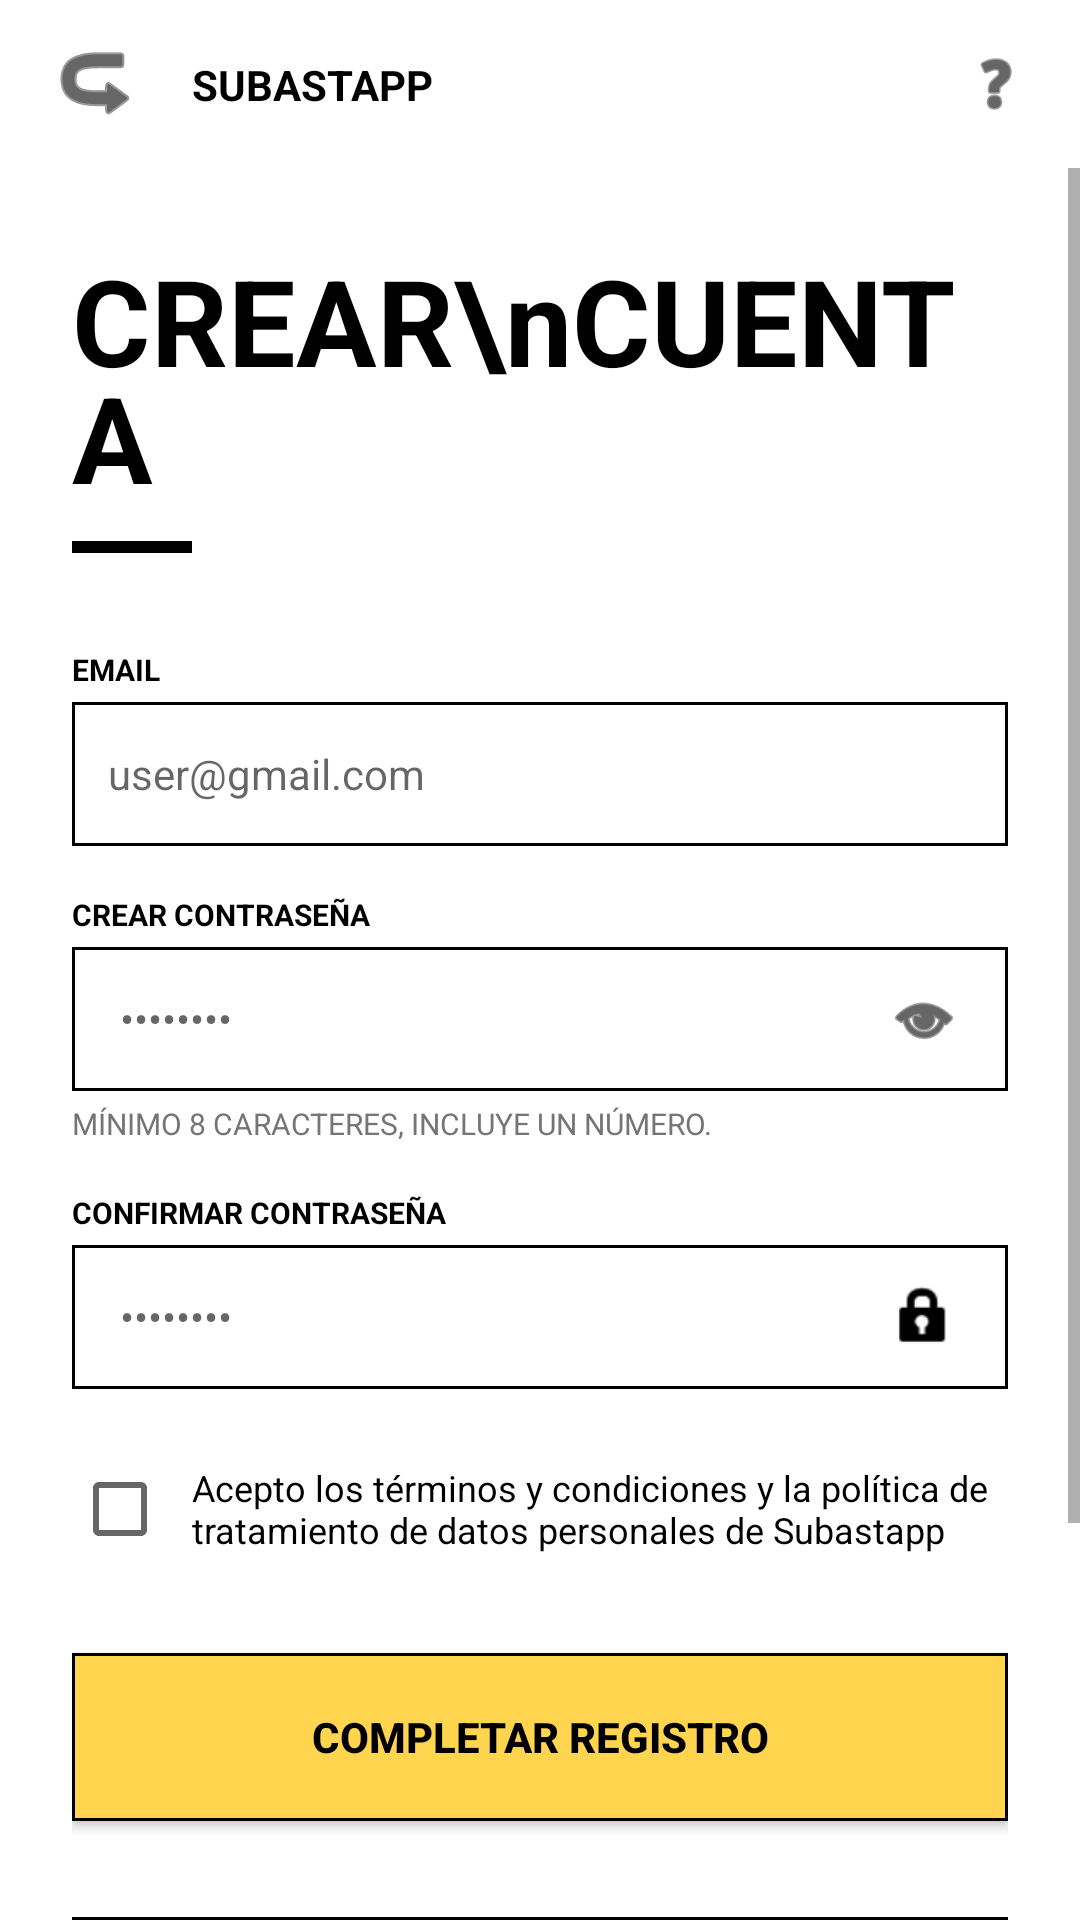

Locate icon controls on the screen. Image size 1080×1920, boxes as rect(x1, y1, x2, y2).
help: rect(980, 58, 1012, 110)
lock idle: rect(899, 1287, 946, 1342)
view: rect(895, 1002, 953, 1039)
